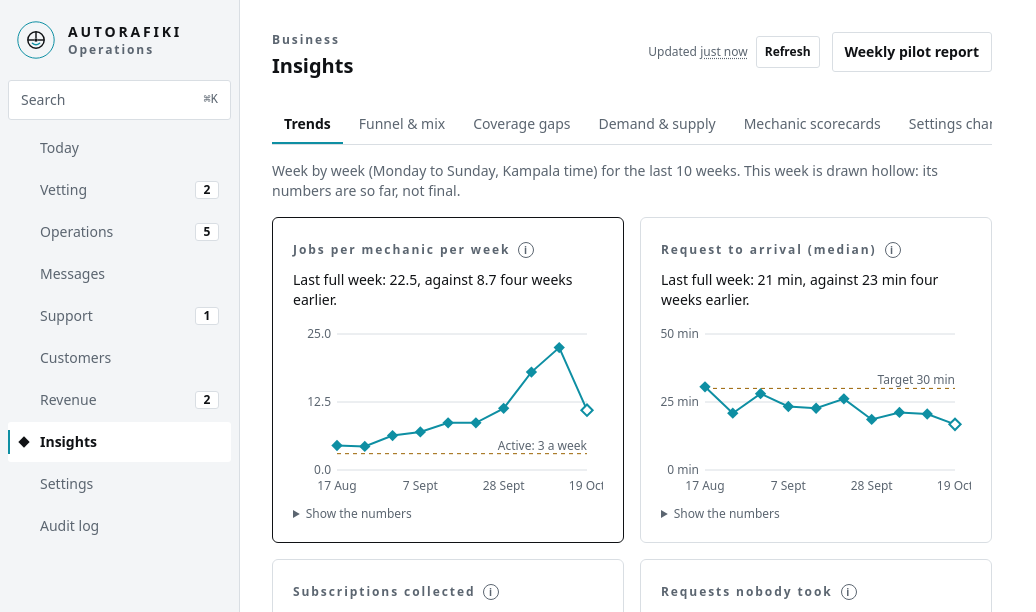
Test case: insights › coverage: the worst areas first, with the nearest mechanic
The width and height of the screenshot is (1036, 612).
Click the button "Coverage gaps". click: (522, 124)
box: x1=461 y1=104 x2=582 y2=144
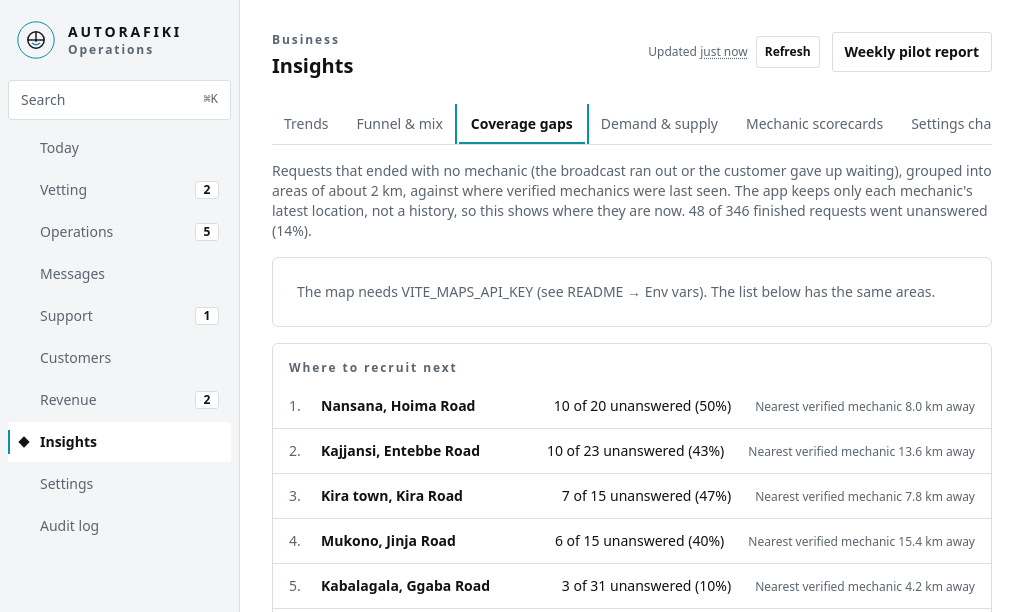
Expected: the text "The map needs VITE_MAPS_API_KEY" is shown, x1=297 y1=282 x2=935 y2=301
